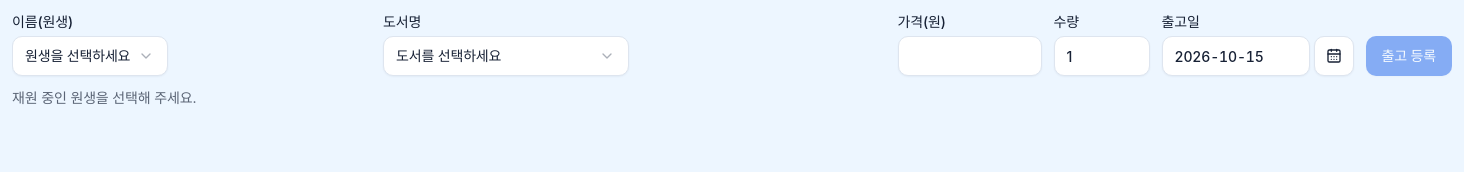
Test: BookShipmentForm › 도서를 고르면 가격이 자동 입력되고 고칠 수 있으며 도서를 바꾸면 다시 자동 입력된다
Select "바이엘 상 (남은 재고 9권)" in the dropdown labelled "도서명" at (506, 56), box [383,36,629,76]
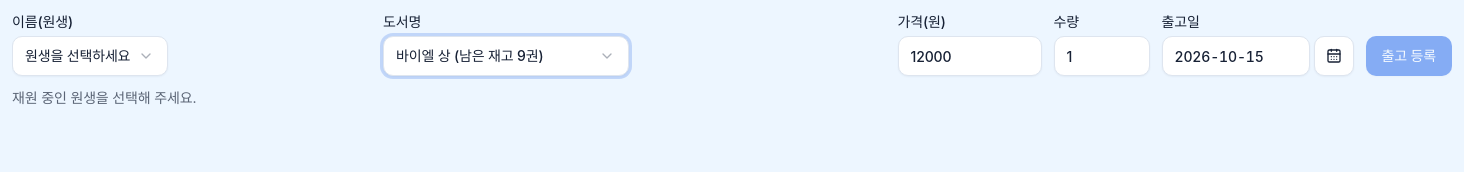
Check: the field labelled "가격(원)" holds "12000"
Replace the text in the field labelled "가격(원)" with "10000" at (970, 56), box [898,36,1042,76]
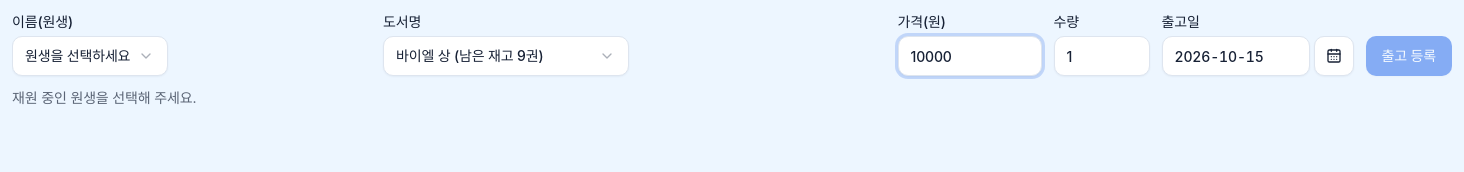
Select "스즈키 바이올린 1 (남은 재고 4권)" in the dropdown labelled "도서명" at (506, 56), box [383,36,629,76]
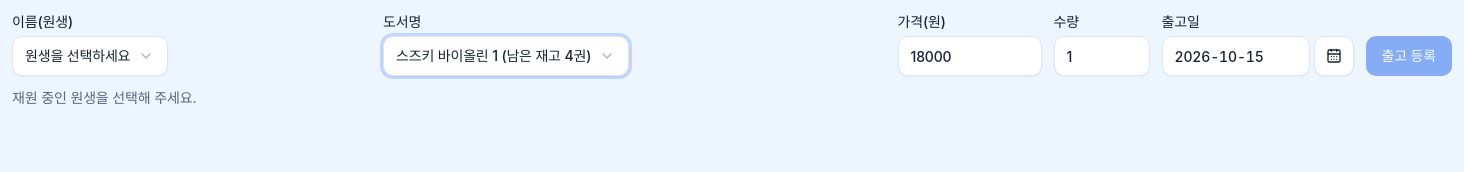
Check: the field labelled "가격(원)" holds "18000", box [898,36,1042,76]
